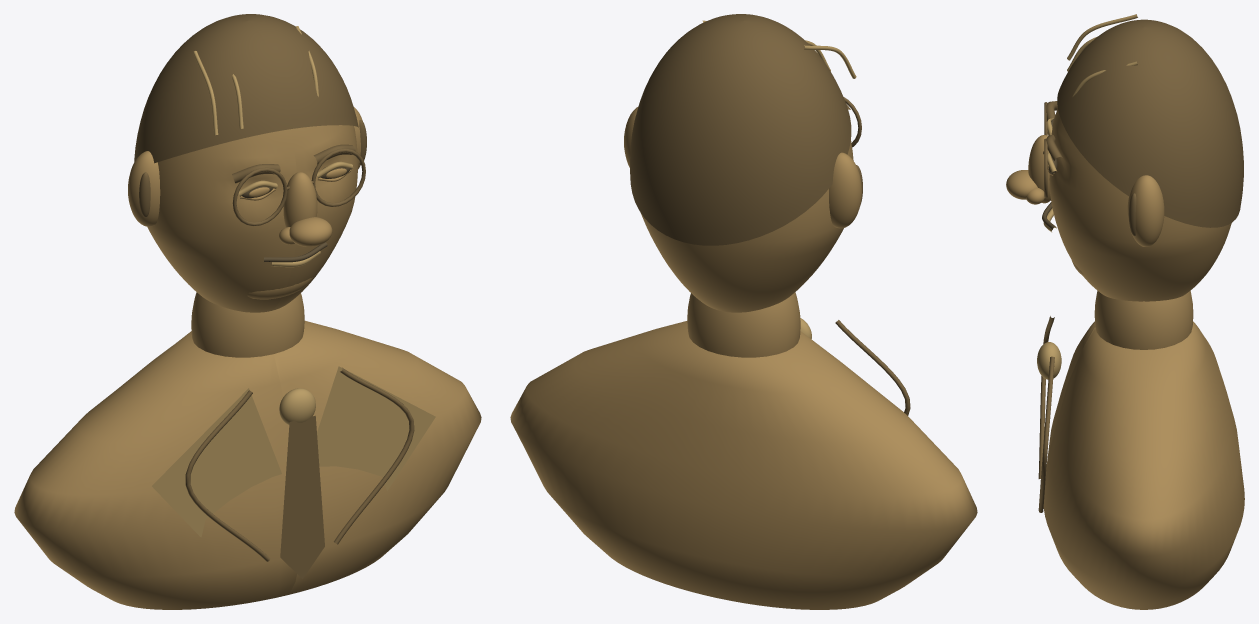
Rendered from cafe.glb.
3 views of the same model, side by side, from view 1: azimuth 30°, elevation 25°; view 2: azimuth 150°, elevation 25°; view 3: azimuth 270°, elevation 25° (orthographic). The views are drawn at different scales.
Parts seen in each view (by area): view 1: cafe; view 2: cafe; view 3: cafe.
Boxes of the visible parts, <box> form: cafe: <box>14,14,481,609</box>; cafe: <box>510,14,977,609</box>; cafe: <box>1006,14,1244,609</box>.
Size of the model in its own units: 1.22 by 1.39 by 0.58.
